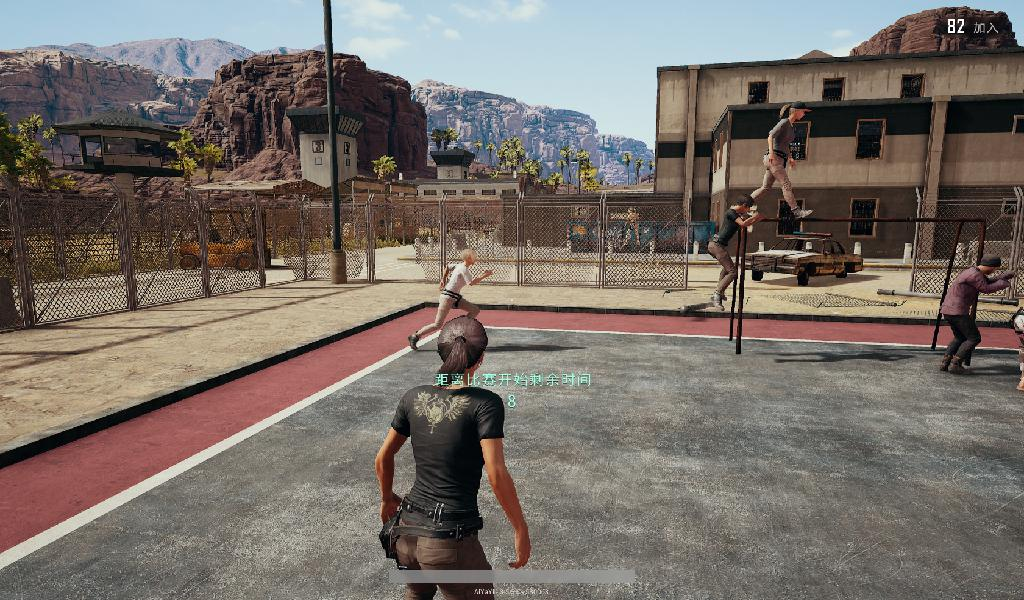Target Person: (373, 316, 534, 600), (936, 246, 1017, 383), (410, 250, 492, 357), (750, 101, 815, 223), (704, 192, 765, 311)
